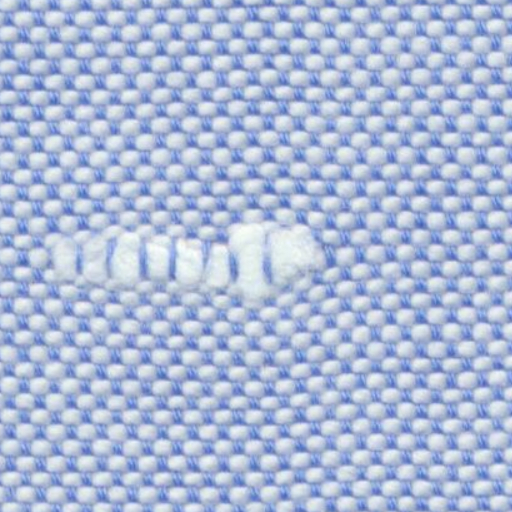DaiSha: (36, 198, 341, 312)
